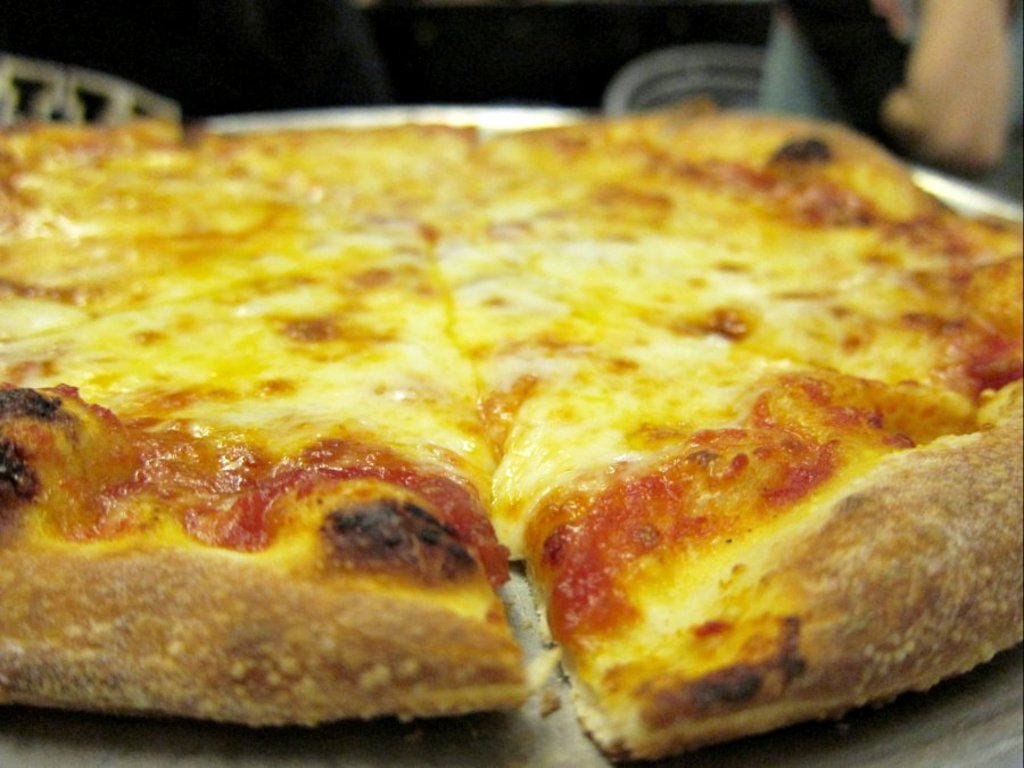person: (0, 0, 397, 136)
